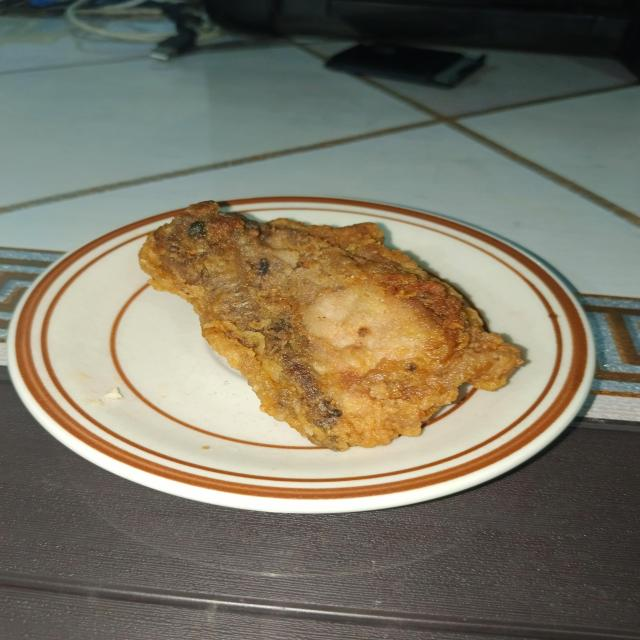Chicken -Fried Chicken-: (113, 182, 523, 480)
